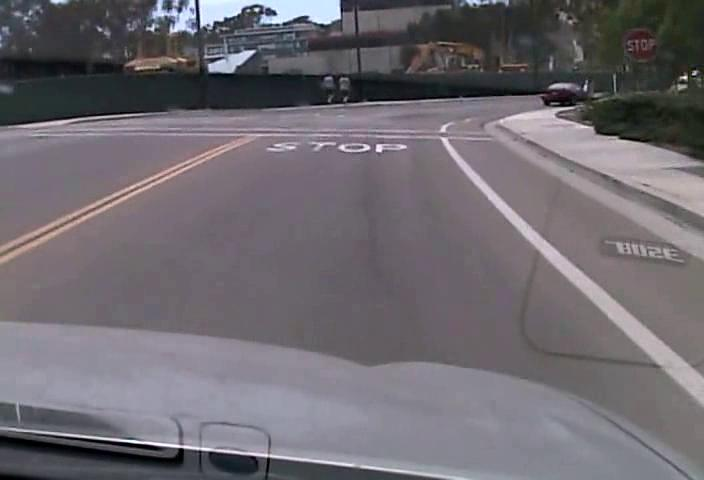stop: (623, 28, 659, 62)
